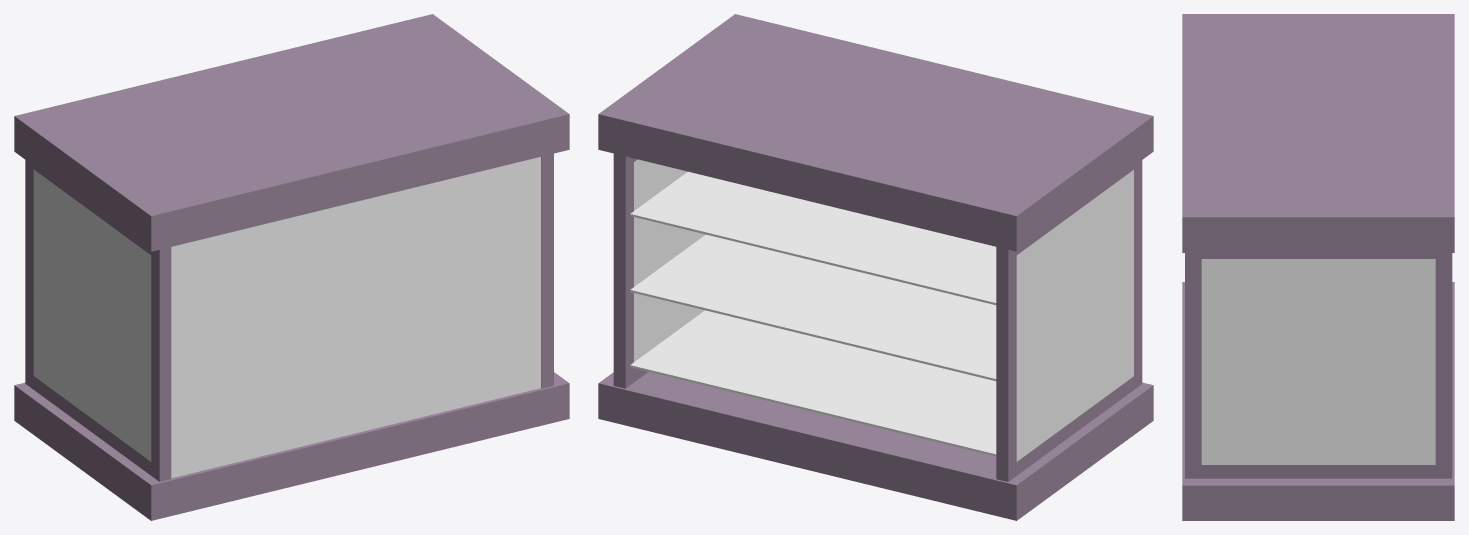
File: display_case.fbx
3 views of the same model, side by side, from view 1: azimuth 30°, elevation 25°; view 2: azimuth 150°, elevation 25°; view 3: azimuth 270°, elevation 25° (orthographic).
Visible parts, largest first — view 1: display_case1; view 2: display_case1; view 3: display_case1.
Part boxes in pixels (x1,y1,x2,y2): display_case1: [14, 14, 569, 520]; display_case1: [598, 14, 1153, 520]; display_case1: [1182, 14, 1454, 520].
Size of the model in its own units: 3.92 by 2.73 by 2.22.
